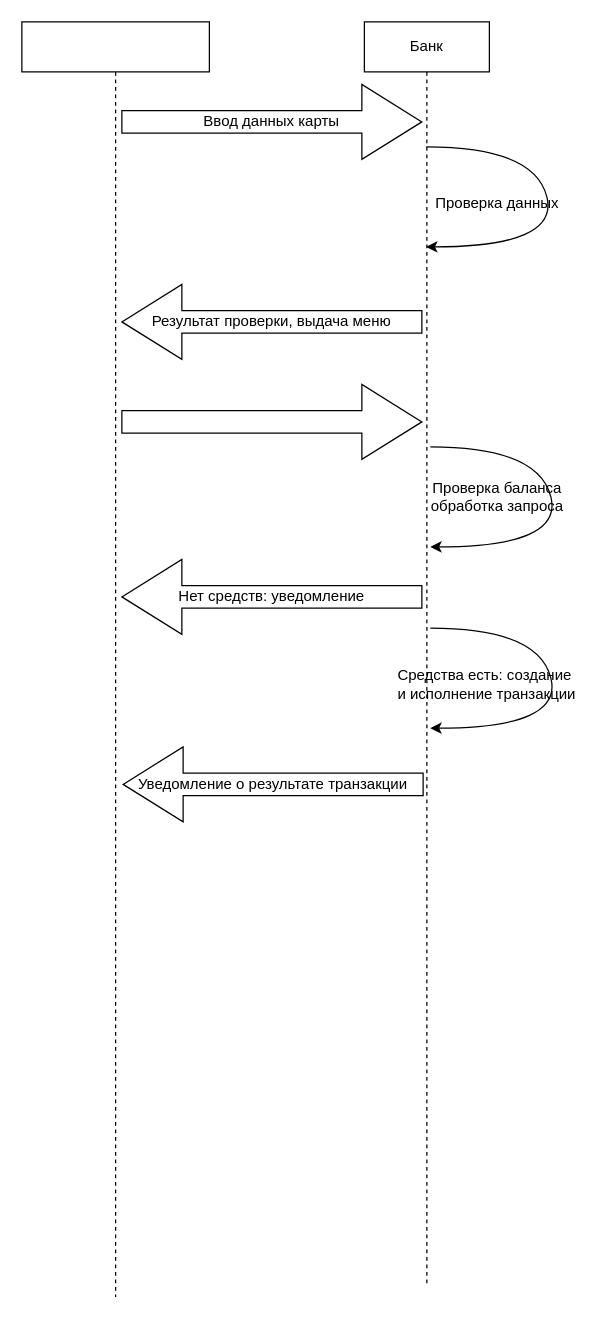
Image size: 613x1319. Some labels were removed from this diagram. Each missing label, with the box of its shape:
Пользователь: (21, 21, 209, 1297)
Работа с меню (пополнение баланса): (121, 383, 422, 459)
